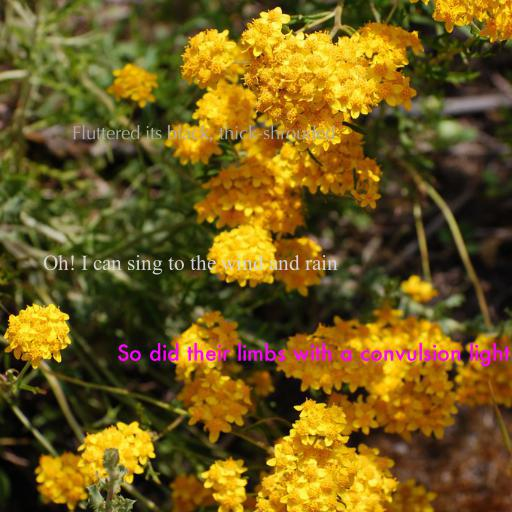Futura: (116, 343, 510, 367)
Optima: (71, 125, 335, 143)
Times New Roman: (42, 255, 338, 275)
